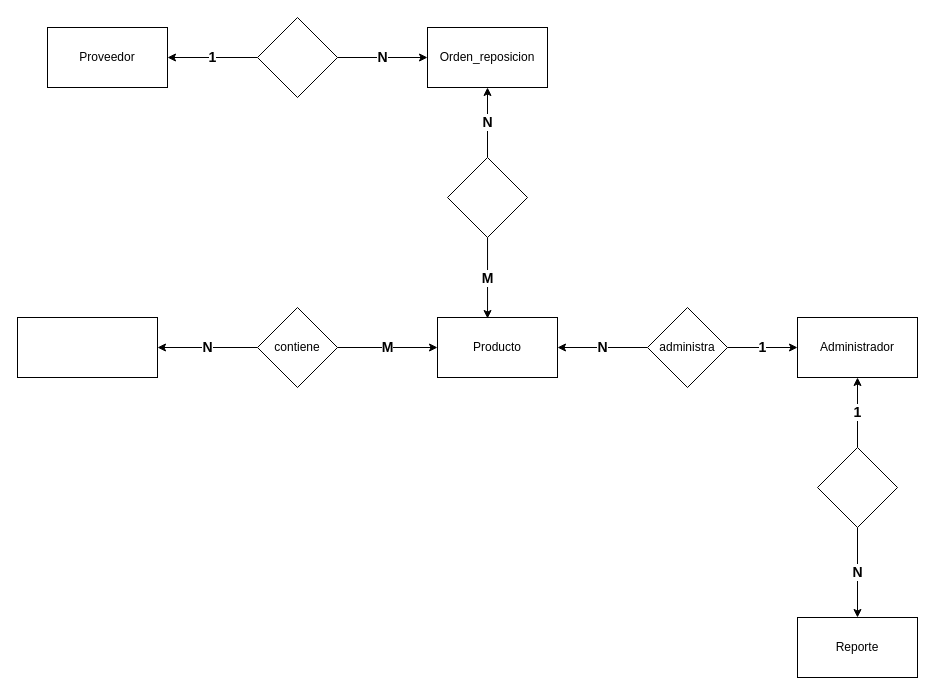
This 935x695 diagram has some shape labels left out. The box of each missing label's shape, as (x1, y1, x2, y2) in pixels:
genera: (816, 446, 898, 528)
incluye: (446, 156, 528, 238)
provee: (256, 16, 338, 98)
Recepcion_mercancias: (16, 316, 158, 378)
